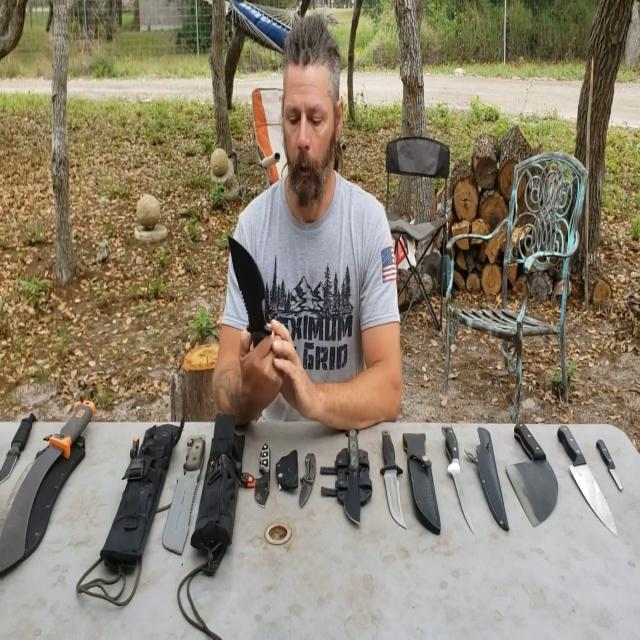knife: (0, 389, 104, 591), (222, 218, 286, 378), (493, 410, 567, 534), (554, 424, 616, 544), (163, 414, 207, 563), (437, 411, 478, 544), (0, 395, 50, 501), (378, 415, 408, 545), (341, 418, 368, 536), (591, 430, 629, 495), (297, 439, 321, 518), (253, 436, 275, 512)
